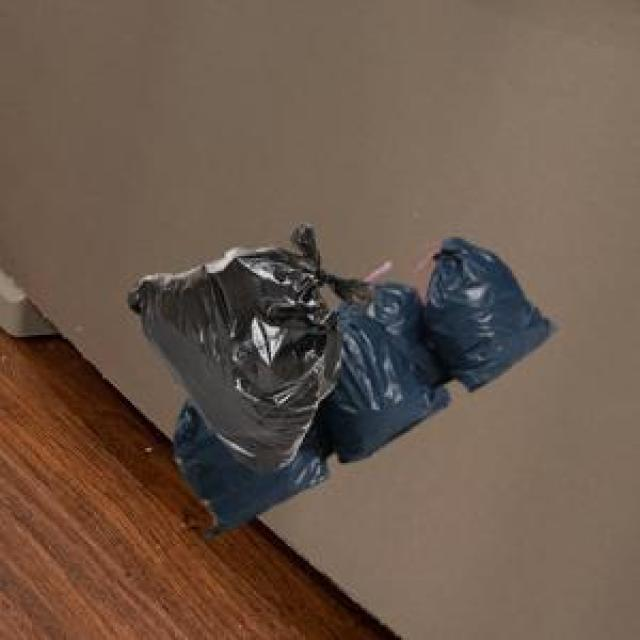miscellaneous trash: (169, 235, 553, 536), (124, 220, 371, 469)
